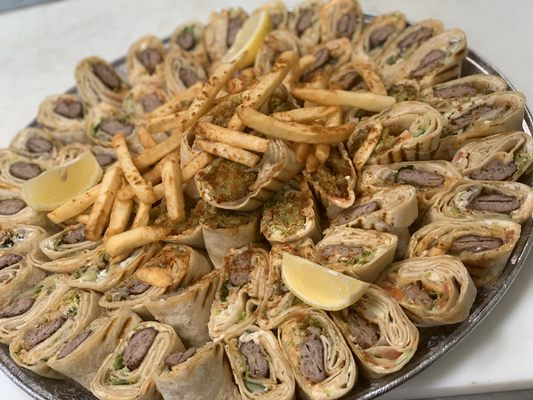sandwich: (1, 2, 533, 399)
